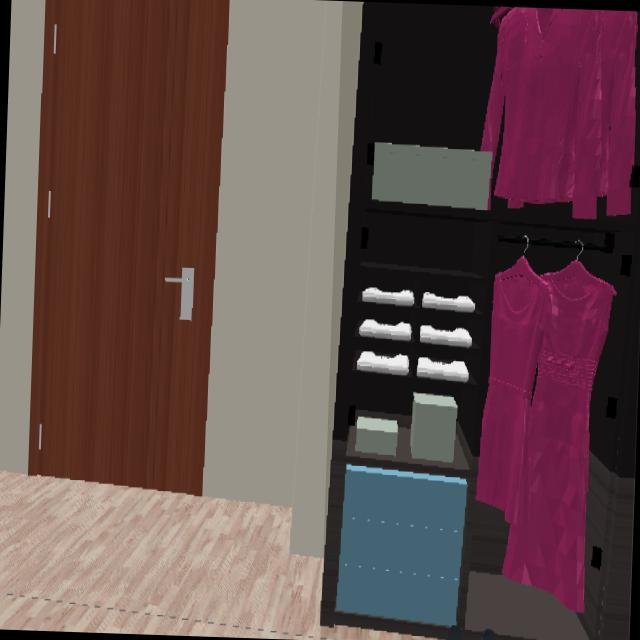wardrobe: (321, 2, 640, 640)
